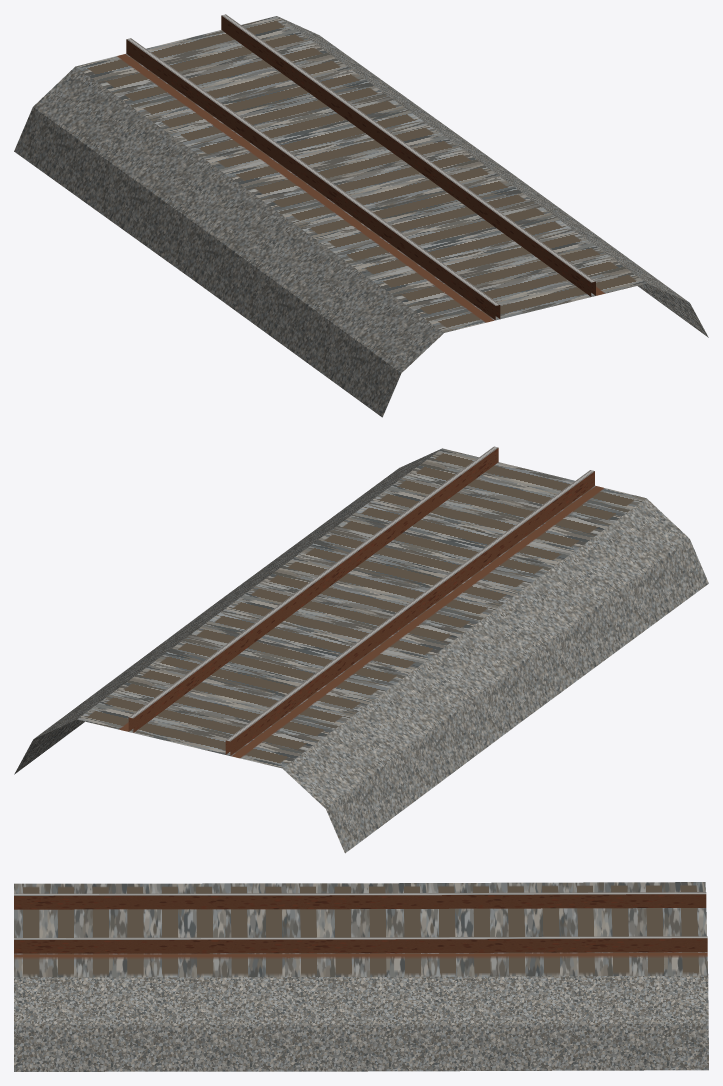
The model's file is rail_track_curve_r875_10m_l_v2_lod1.glb.
3 views of the same model, one above another, from view 1: azimuth 30°, elevation 25°; view 2: azimuth 150°, elevation 25°; view 3: azimuth 270°, elevation 25° (orthographic). The views are drawn at different scales.
Parts seen in each view (by area): view 1: rail_track_curve_r875_10m_l_v2_lod1; view 2: rail_track_curve_r875_10m_l_v2_lod1; view 3: rail_track_curve_r875_10m_l_v2_lod1.
Boxes of the visible parts, box(x1,y1,x2,y2) form: rail_track_curve_r875_10m_l_v2_lod1: box(14, 14, 708, 417); rail_track_curve_r875_10m_l_v2_lod1: box(14, 446, 708, 853); rail_track_curve_r875_10m_l_v2_lod1: box(14, 882, 708, 1071).
Bounding box in the file's own units: 5.21 × 1.27 × 10.03.
2 materials, 2 textured.
